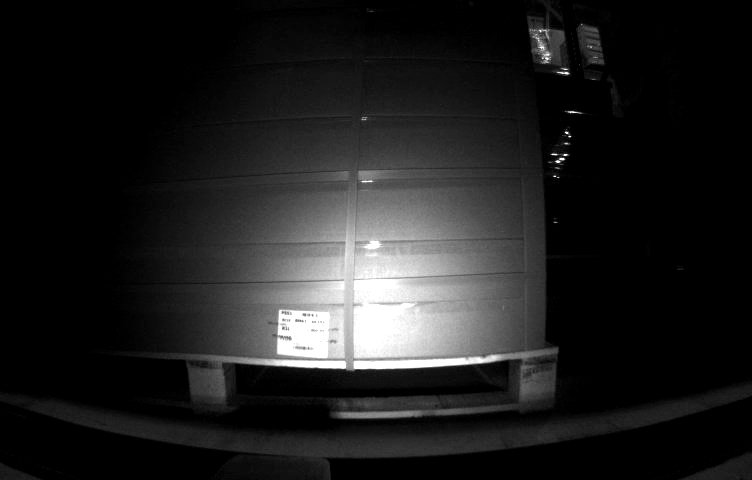True Barcode: (277, 306, 328, 358)
